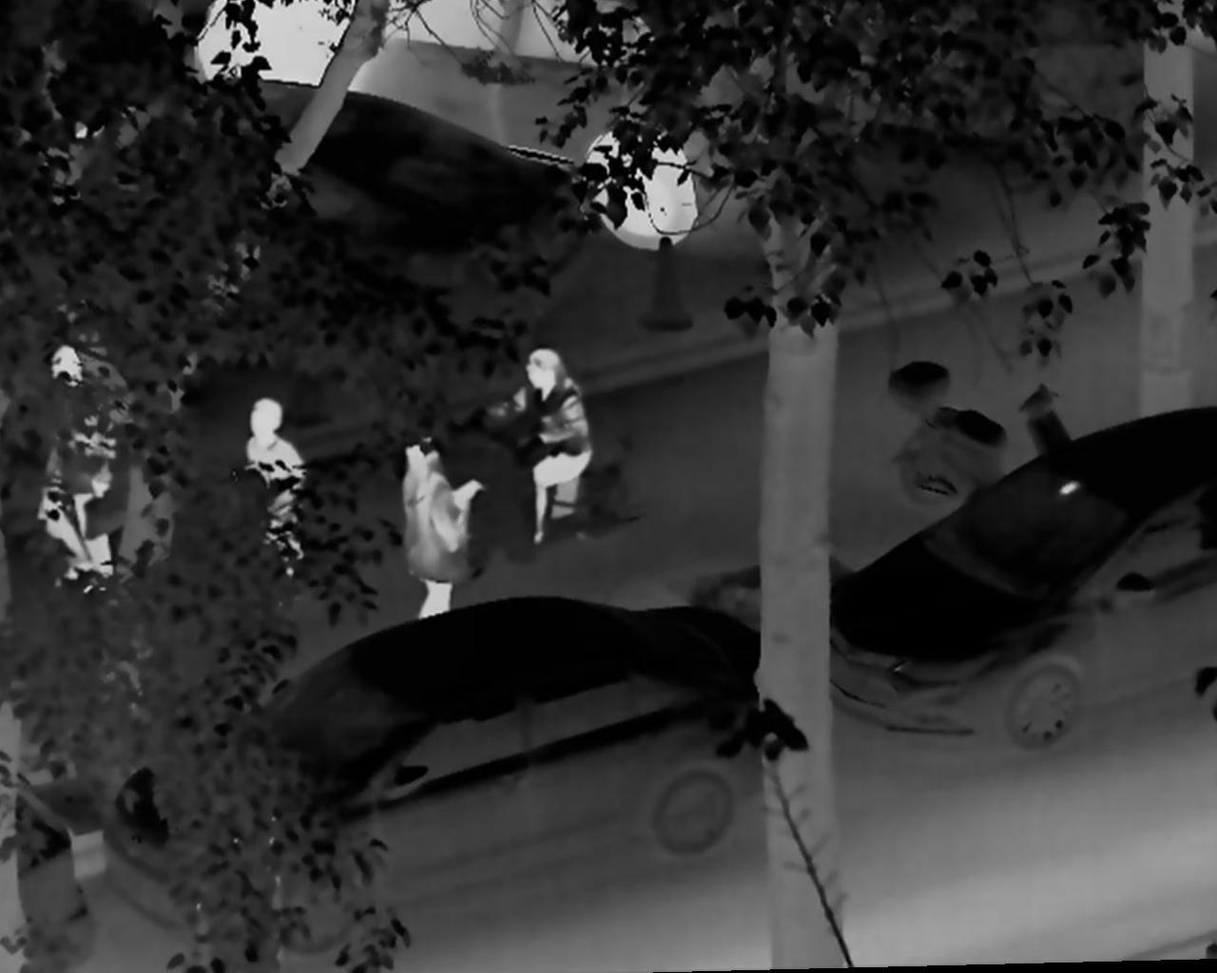person: (29, 344, 118, 601), (485, 342, 593, 548), (388, 431, 485, 632), (238, 391, 305, 585)
